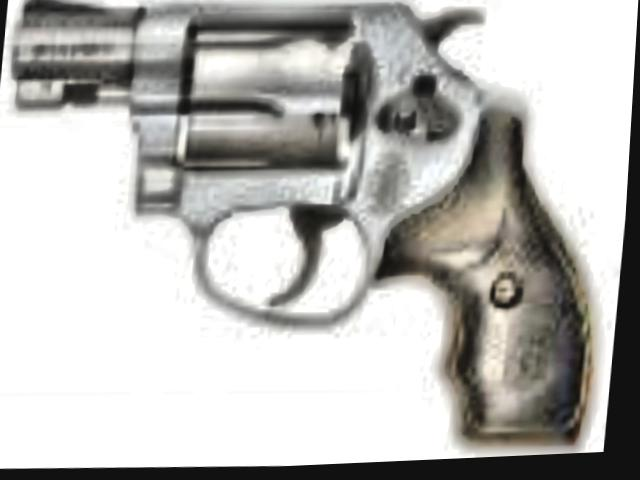pistol: (0, 0, 636, 470)
